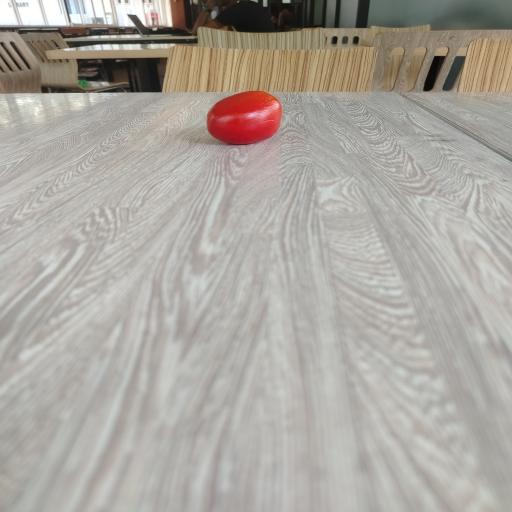ripe: (207, 91, 282, 144)
